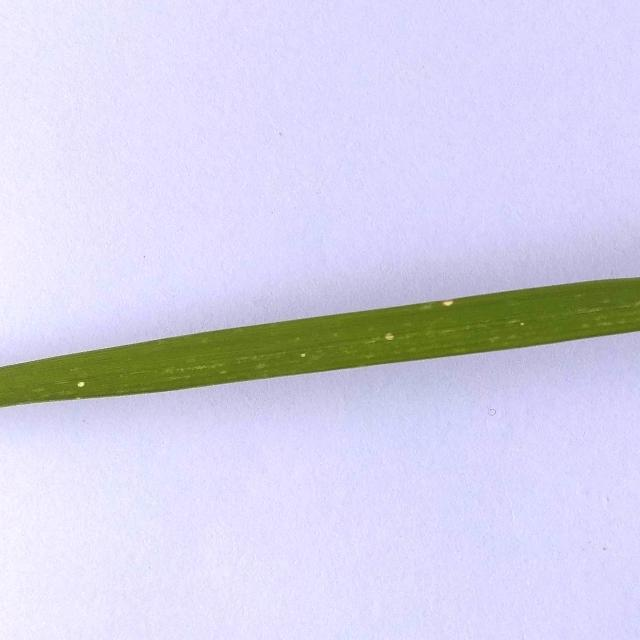Blast: (379, 330, 402, 344), (74, 382, 94, 392), (440, 300, 454, 307)
